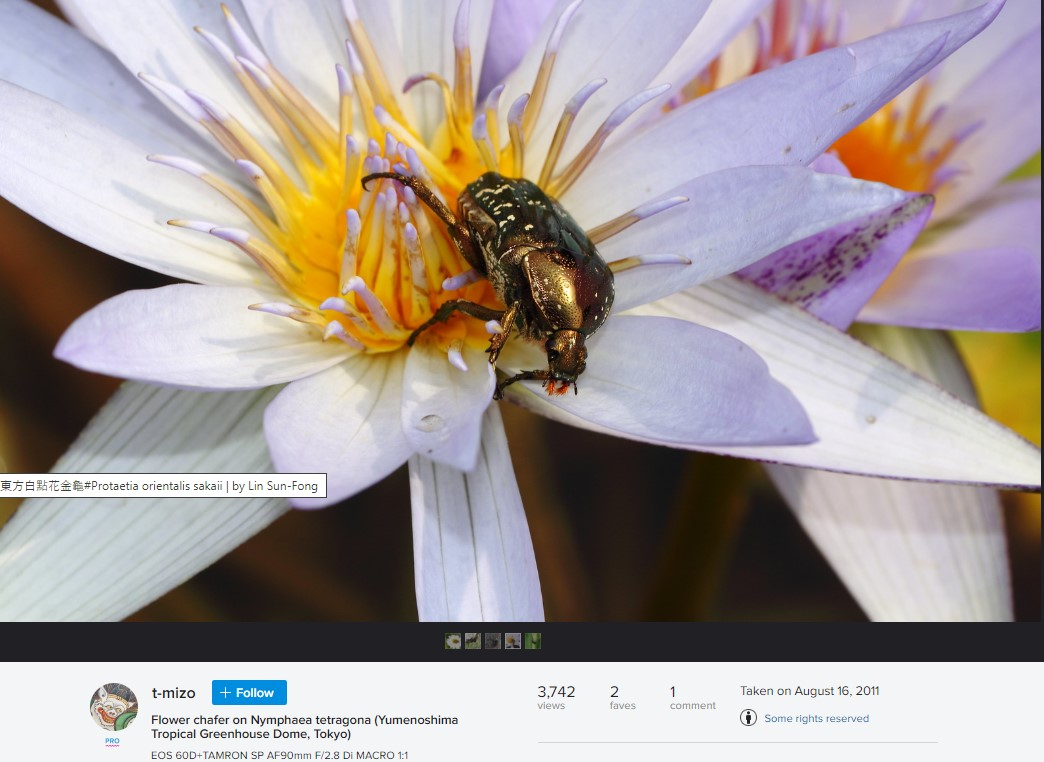Protaetia _orientalis: (352, 158, 619, 404)
